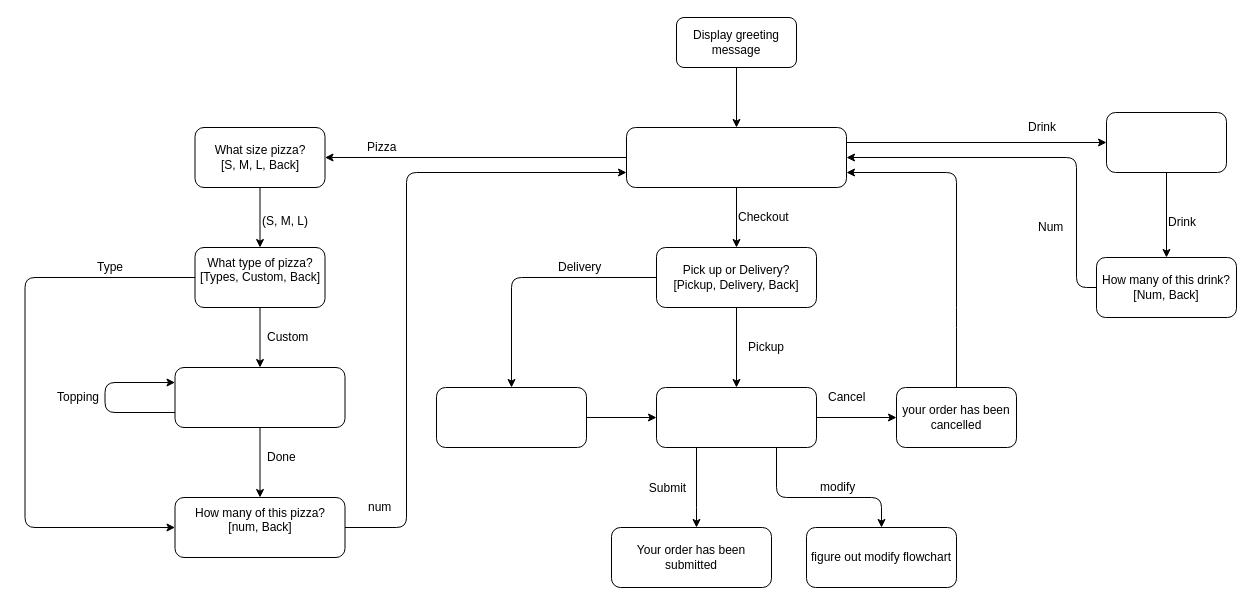
The diagram is 1254 pixels wide and 605 high, and some of its shapes have lost their labels. The box of each missing label's shape, as (x1, y1, x2, y2) in pixels:
Display Order [Submit, Cancel, Modify]: (656, 386, 816, 448)
What delivery service? [Ubereats, Foodora, Back]: (436, 386, 586, 448)
What Drink? [Drinks, Back]: (1106, 112, 1226, 172)
What toppings? [Toppings, Undo, Back, Done]: (174, 366, 345, 428)
What would you like to order ? [Pizza, Drink, Checkout]: (626, 126, 846, 188)
